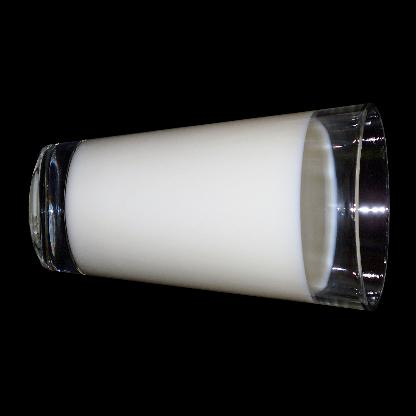milk: (60, 110, 338, 306)
